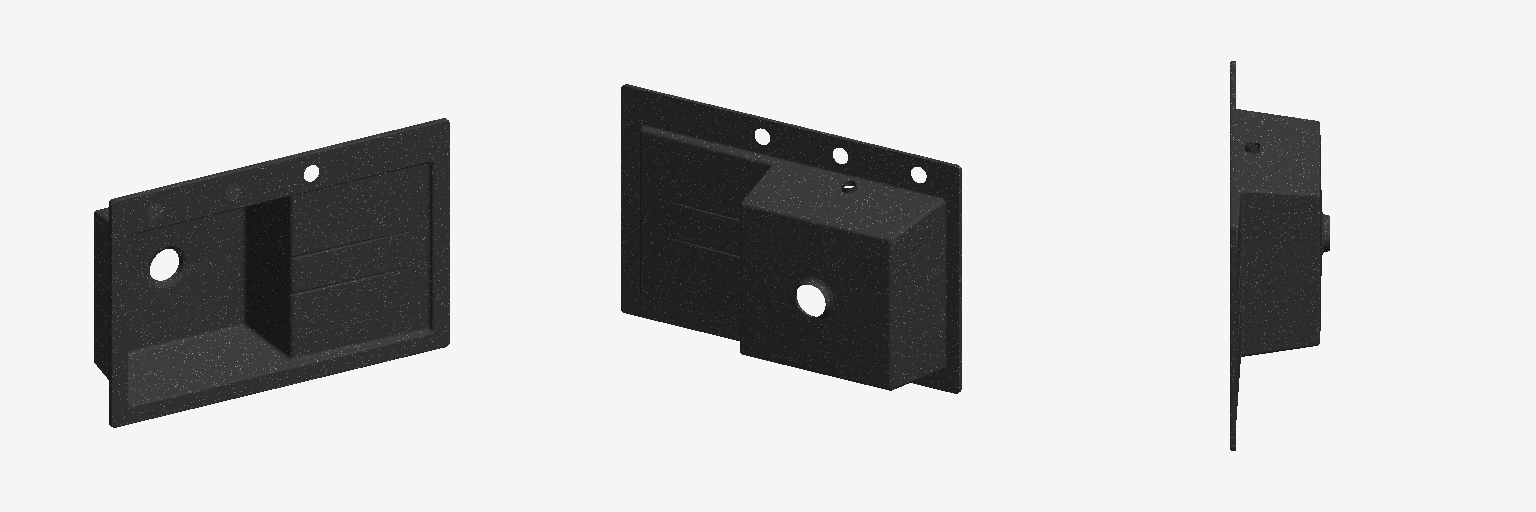
3 renders of one model, left to right at view 1: azimuth 30°, elevation 25°; view 2: azimuth 150°, elevation 25°; view 3: azimuth 270°, elevation 25°, orthographic.
Bounding box in the file's own units: 1 × 0.6411 × 0.2554.
1 materials, 1 textured.